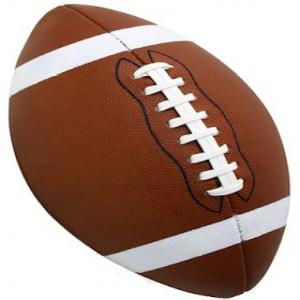Rugby: (9, 3, 291, 298)
